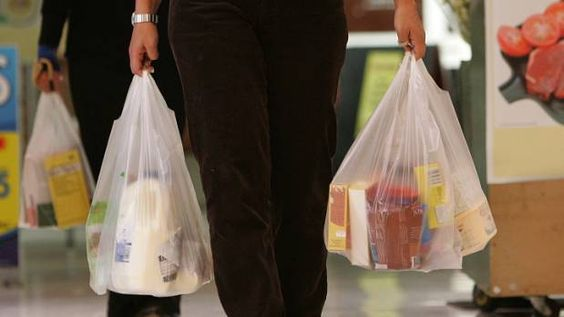Metal: (111, 161, 172, 291)
papel: (321, 45, 503, 282), (82, 69, 221, 297), (12, 87, 101, 236)
